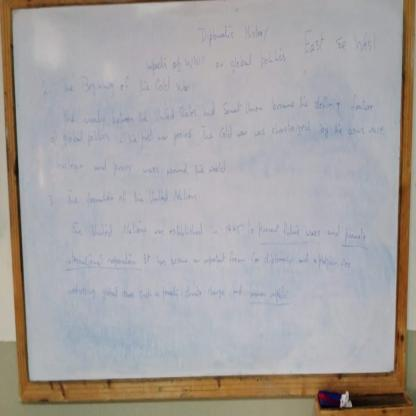Handwritten text: (59, 93, 379, 129), (58, 122, 388, 153), (68, 214, 370, 245), (58, 247, 360, 276), (58, 277, 291, 313), (55, 155, 236, 182), (64, 179, 198, 210), (299, 23, 383, 68), (139, 49, 294, 73), (57, 76, 196, 102), (198, 16, 270, 47)
